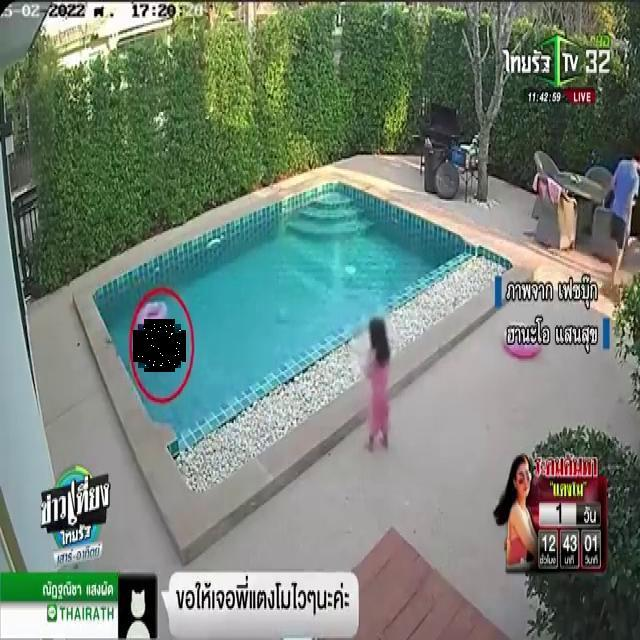Out of Water: (138, 324, 181, 368)
